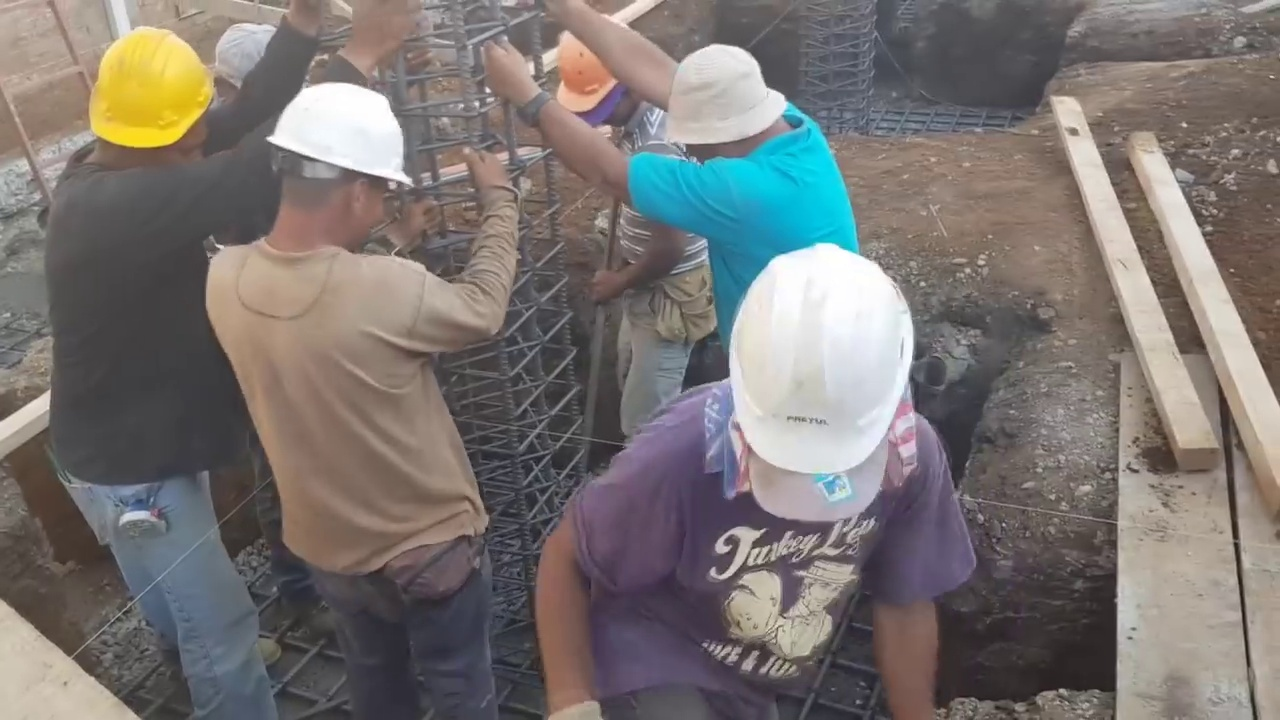helmet: (727, 243, 915, 478), (267, 77, 408, 195), (83, 27, 207, 148), (548, 28, 627, 118)
helmet-off: (655, 38, 796, 169), (214, 14, 295, 98)
helmet-on: (703, 243, 919, 536), (258, 75, 411, 261), (67, 26, 211, 180), (544, 28, 649, 143)
person: (43, 0, 409, 720), (532, 243, 969, 714), (200, 72, 514, 717), (491, 24, 935, 344), (538, 21, 717, 440), (177, 0, 345, 174)
